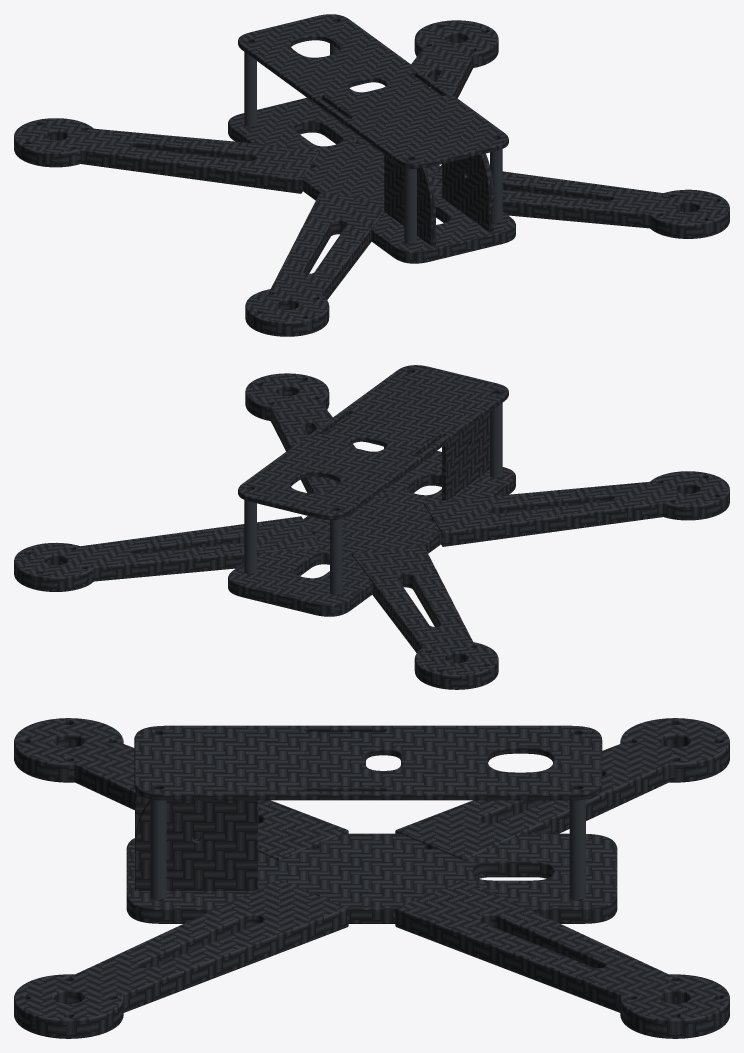
Rendered from frame.glb.
3 views of the same model, one above another, from view 1: azimuth 30°, elevation 25°; view 2: azimuth 150°, elevation 25°; view 3: azimuth 270°, elevation 25° (orthographic). The views are drawn at different scales.
Parts seen in each view (by area): view 1: Top plate, Arm M1, Bottom plate, Arm M2, Arm M4, Camera side plate (×2), Arm M3, Standoff 30 mm (×3); view 2: Top plate, Bottom plate, Arm M2, Arm M3, Arm M1, Arm M4, Standoff 30 mm (×3), Camera side plate; view 3: Top plate, Bottom plate, Arm M3, Arm M4, Arm M1, Arm M2, Camera side plate, Standoff 30 mm (×2).
Part boxes in pixels (x1,y1,x2,y2): Top plate: [238, 14, 508, 168]; Arm M1: [14, 118, 320, 193]; Bottom plate: [228, 97, 515, 263]; Arm M2: [245, 193, 384, 336]; Arm M4: [432, 164, 729, 238]; Camera side plate (×2): [384, 153, 493, 246]; Arm M3: [352, 20, 498, 145]; Standoff 30 mm (×3): [244, 52, 502, 244]; Top plate: [238, 365, 508, 519]; Bottom plate: [228, 451, 515, 616]; Arm M2: [423, 471, 729, 546]; Arm M3: [14, 516, 320, 591]; Arm M1: [352, 546, 498, 689]; Arm M4: [245, 373, 391, 498]; Standoff 30 mm (×3): [244, 403, 502, 595]; Camera side plate: [442, 412, 489, 500]; Top plate: [134, 725, 602, 800]; Bottom plate: [126, 833, 617, 923]; Arm M3: [395, 879, 729, 1038]; Arm M4: [14, 879, 348, 1038]; Arm M1: [395, 718, 729, 860]; Arm M2: [14, 718, 348, 860]; Camera side plate: [135, 800, 258, 890]; Standoff 30 mm (×2): [150, 799, 585, 900].
Bounding box in the file's own units: 0.1879 × 0.0372 × 0.1879.
12 materials, 8 textured.
